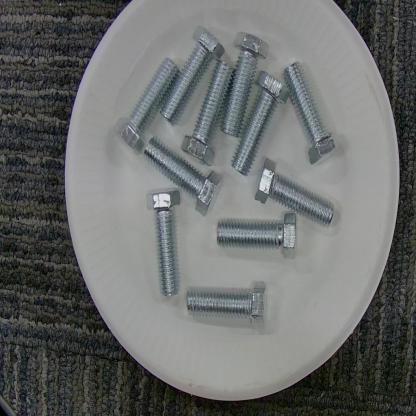FOD: (114, 25, 339, 330)
